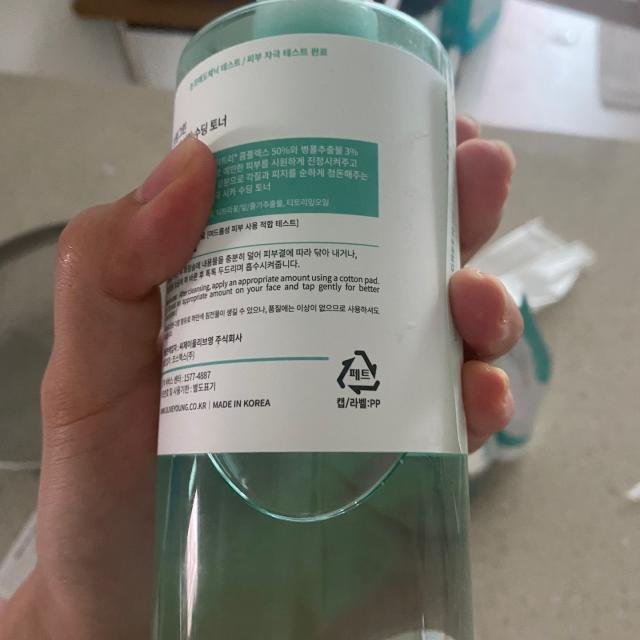PET: (335, 348, 382, 396)
